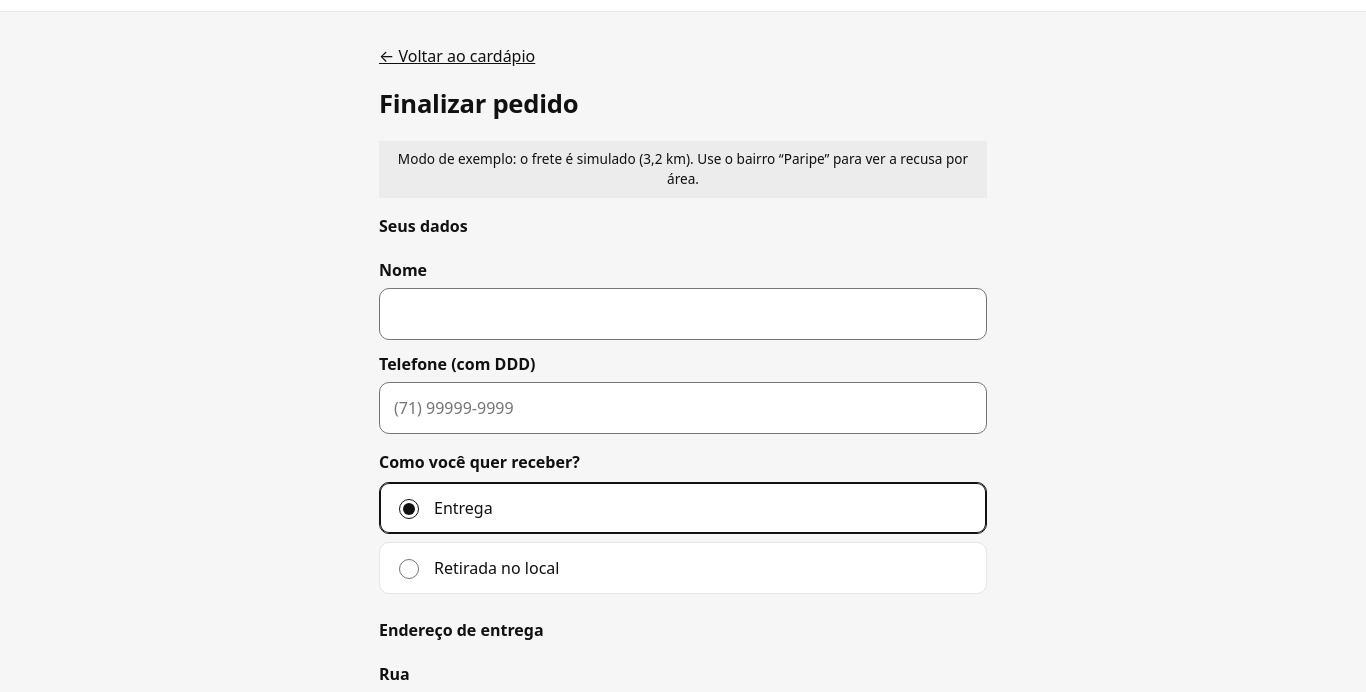
Scenario: Checkout › retirada: revisa o total sem frete, confirma e limpa a sacola
expect the heading "Finalizar pedido" is shown: met, box [379, 86, 578, 121]
Type "Maria Silva" into the field labelled "Nome".
click(683, 314); type("Maria Silva")  # box [379, 288, 987, 340]
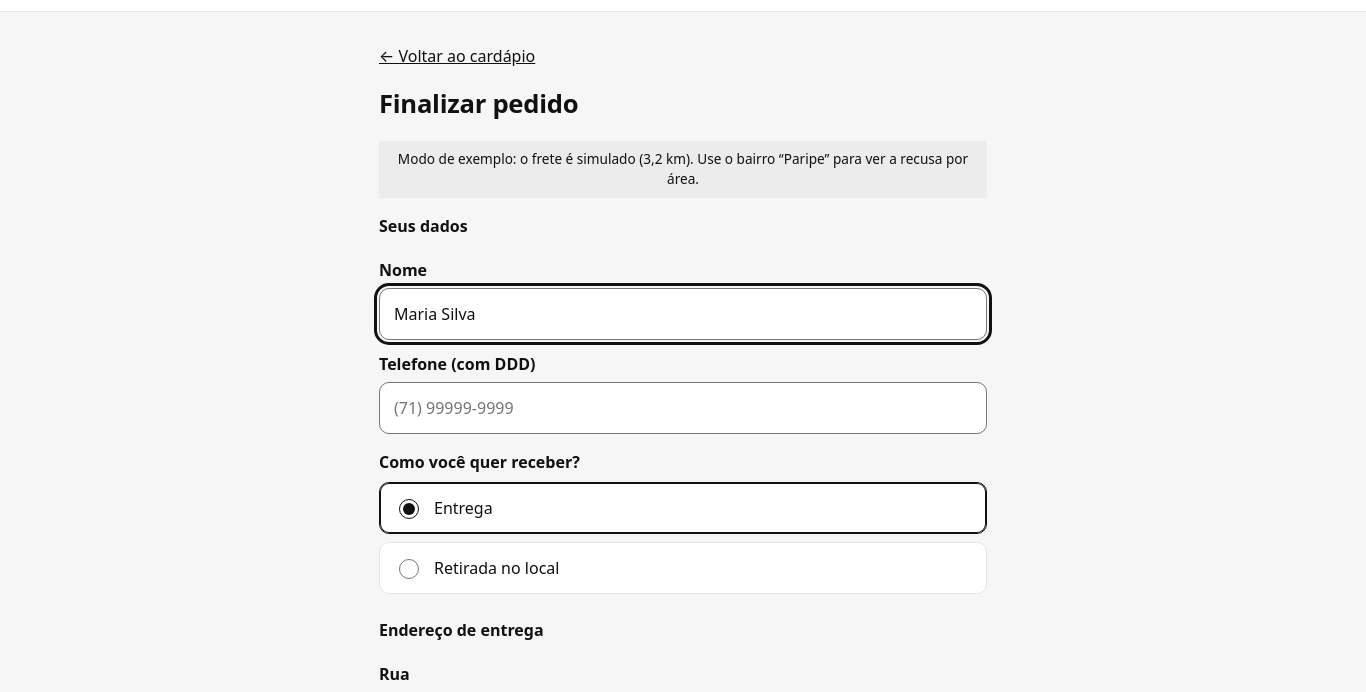
Type "(71) 99999-1234" into the field labelled "Telefone (com DDD)".
click(683, 408); type("(71) 99999-1234")  # box [379, 382, 987, 434]
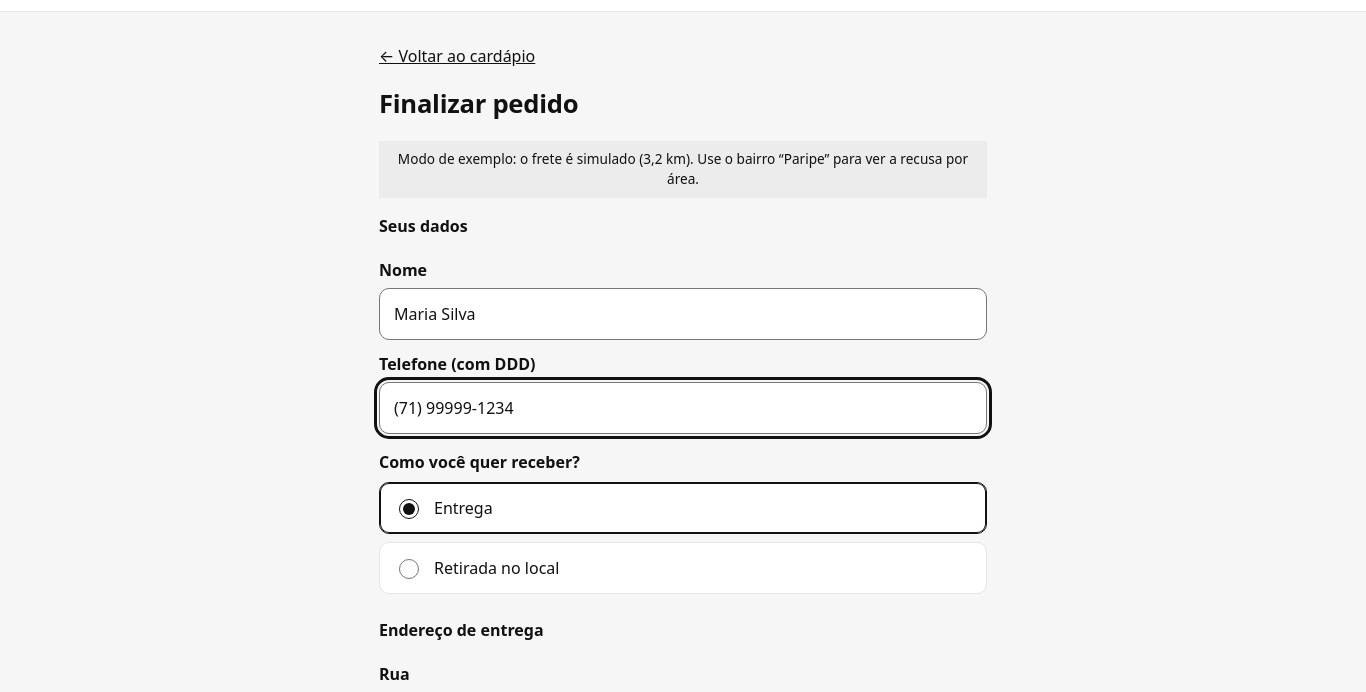
Click the radio button labelled "Retirada no local".
click(409, 569)  # box [399, 559, 419, 579]
(page scrolled)
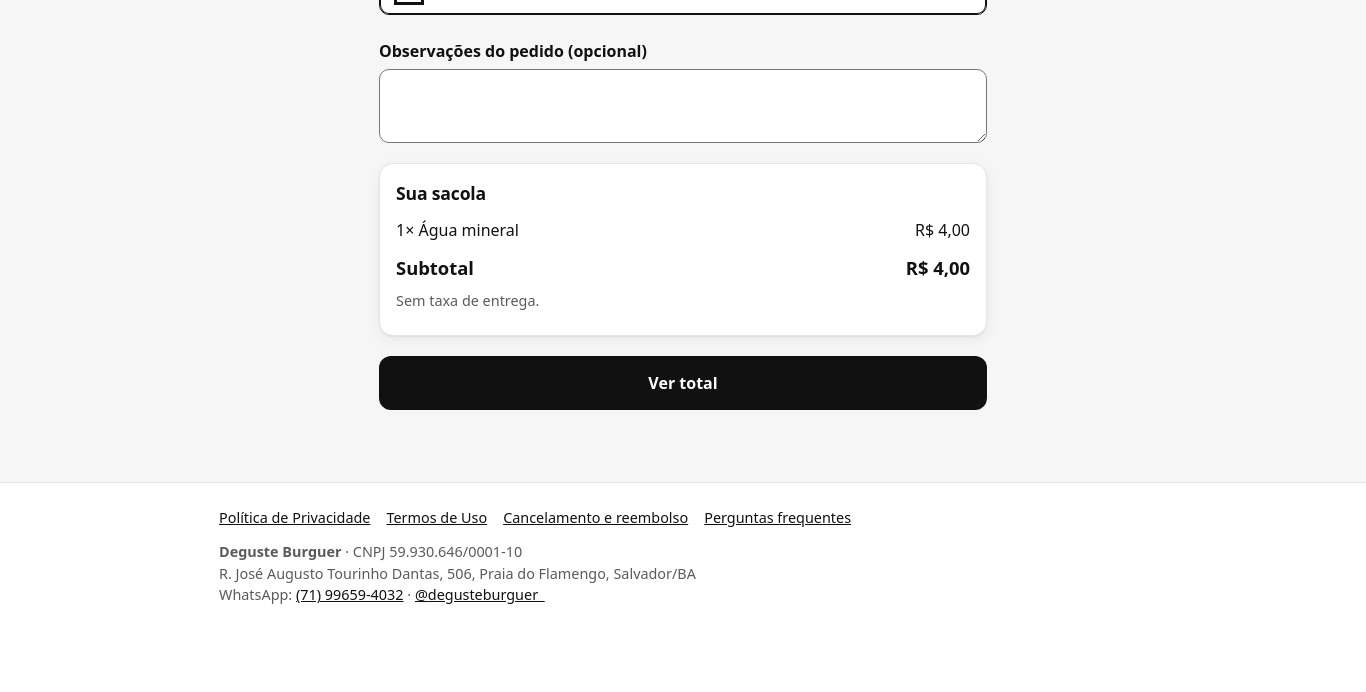
Click the button "Ver total".
click(683, 383)  # box [379, 356, 987, 410]
(page scrolled)
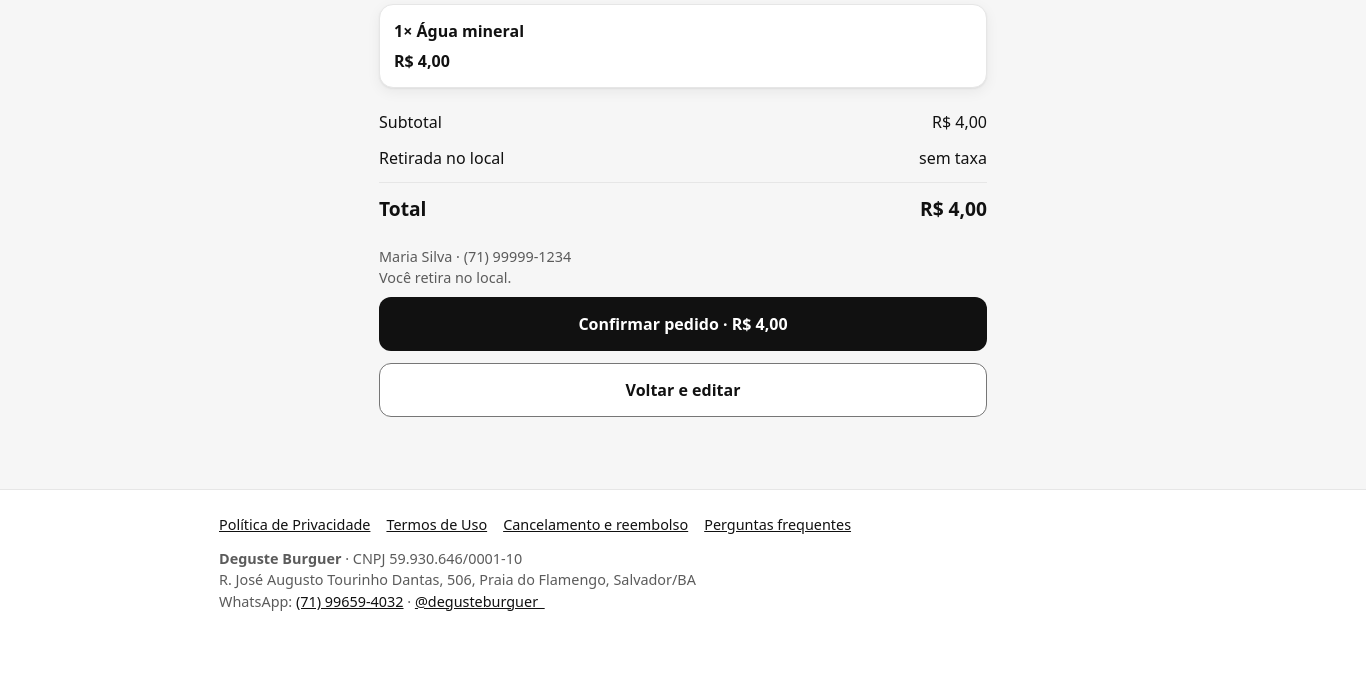
expect the text "Maria Silva · (71) 99999-1234Você retira no local." is shown: met, box [379, 247, 571, 287]
expect the button "Confirmar pedido · R$ 4,00" is shown: met
Click the button "Confirmar pedido · R$ 4,00".
click(683, 324)  # box [379, 297, 987, 351]
(page scrolled)
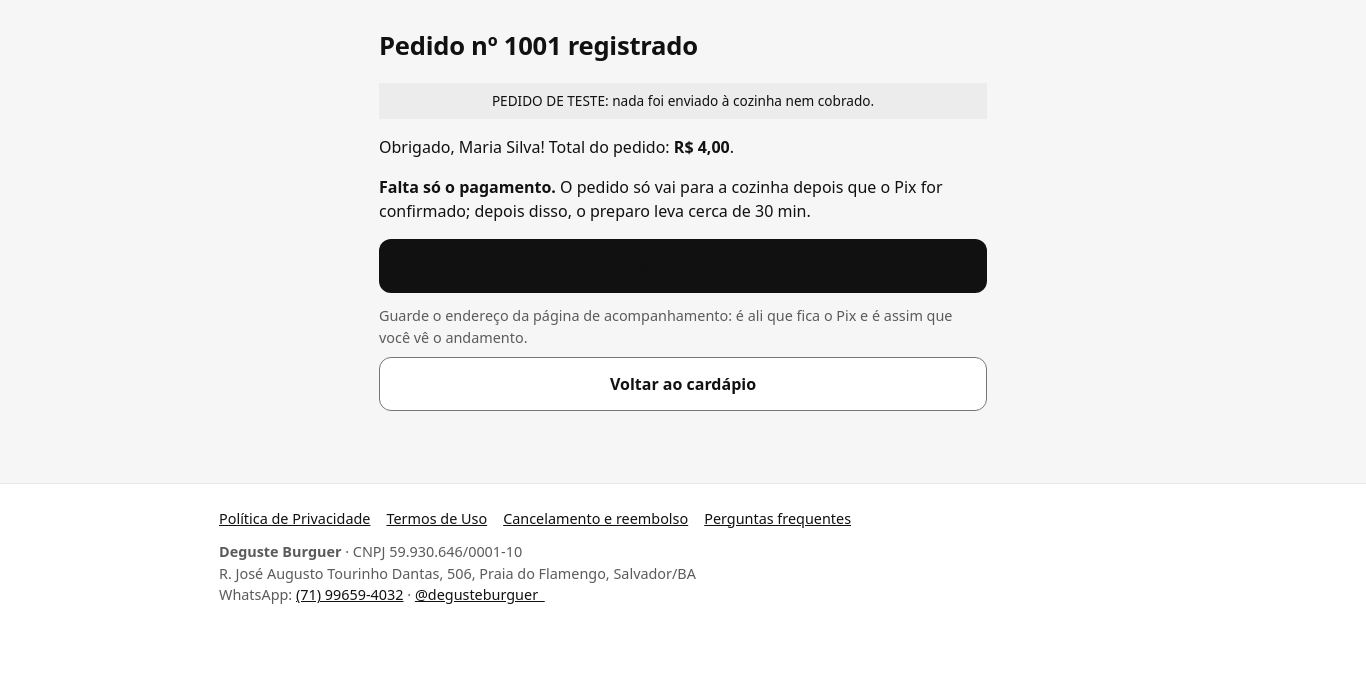
expect the heading "Pedido nº 1001 registrado" is shown: met, box [379, 28, 698, 63]
expect the text "PEDIDO DE TESTE: nada foi enviado à cozinha nem cobrado." is shown: met, box [379, 83, 987, 119]
